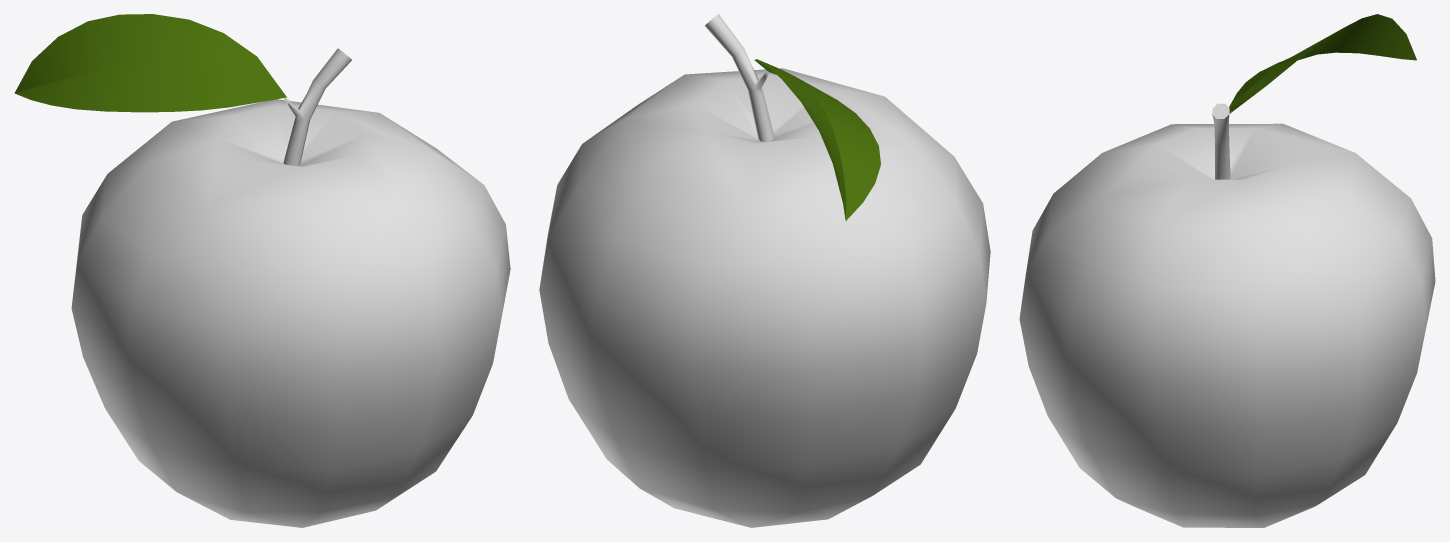
Rendered from SM_apple.fbx.
3 renders of one model, left to right at view 1: azimuth 30°, elevation 25°; view 2: azimuth 150°, elevation 25°; view 3: azimuth 270°, elevation 25°, orthographic. The views are drawn at different scales.
Visible parts, largest first — view 1: SM_apple; view 2: SM_apple; view 3: SM_apple.
Part boxes in pixels (x1,y1,x2,y2): SM_apple: [14, 14, 510, 527]; SM_apple: [539, 14, 990, 527]; SM_apple: [1019, 14, 1435, 527].
Size of the model in its own units: 10.65 by 12.49 by 10.76.
